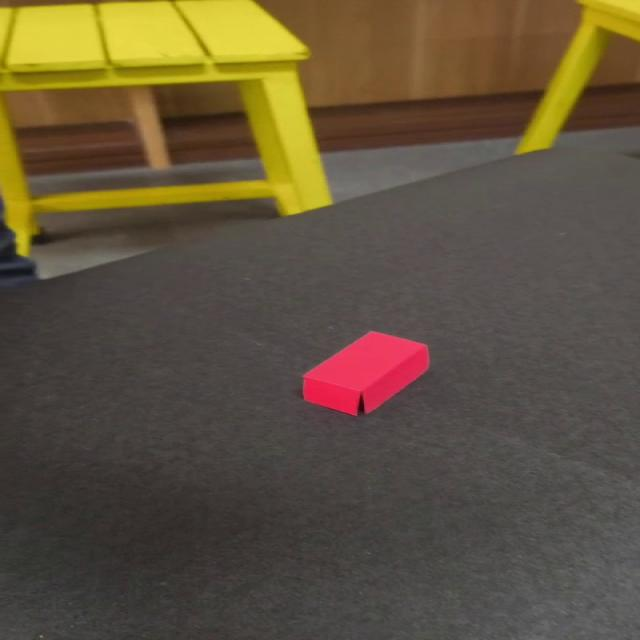red block: (300, 330, 429, 416)
